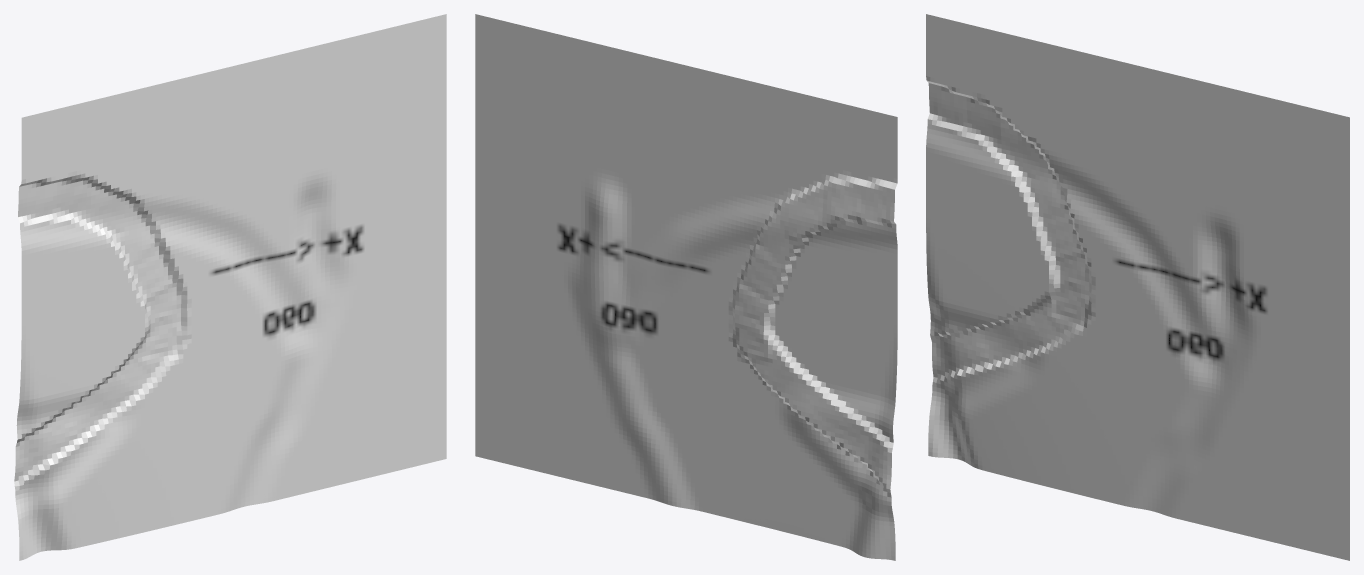
3 renders of one model, left to right at view 1: azimuth 30°, elevation 25°; view 2: azimuth 150°, elevation 25°; view 3: azimuth 330°, elevation 25°, orthographic.
Parts seen in each view (by area): view 1: Ground060; view 2: Ground060; view 3: Ground060.
Boxes of the visible parts, left/top/right/bottom form: Ground060: left=14, top=14, right=446, bottom=560; Ground060: left=475, top=14, right=897, bottom=560; Ground060: left=926, top=14, right=1349, bottom=560.
Size of what is drawn, in the model's own units: 100 by 3.02 by 100.
1 material, 1 textured.
